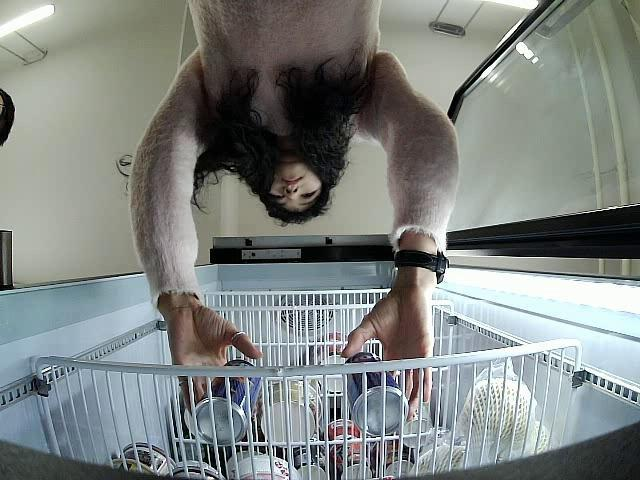16_hot6: (194, 359, 263, 444), (344, 351, 410, 438)
